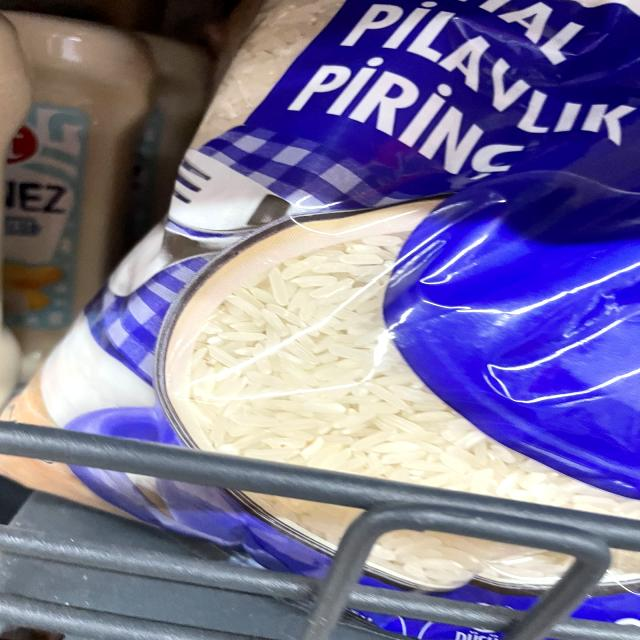rice: (247, 318, 369, 436)
